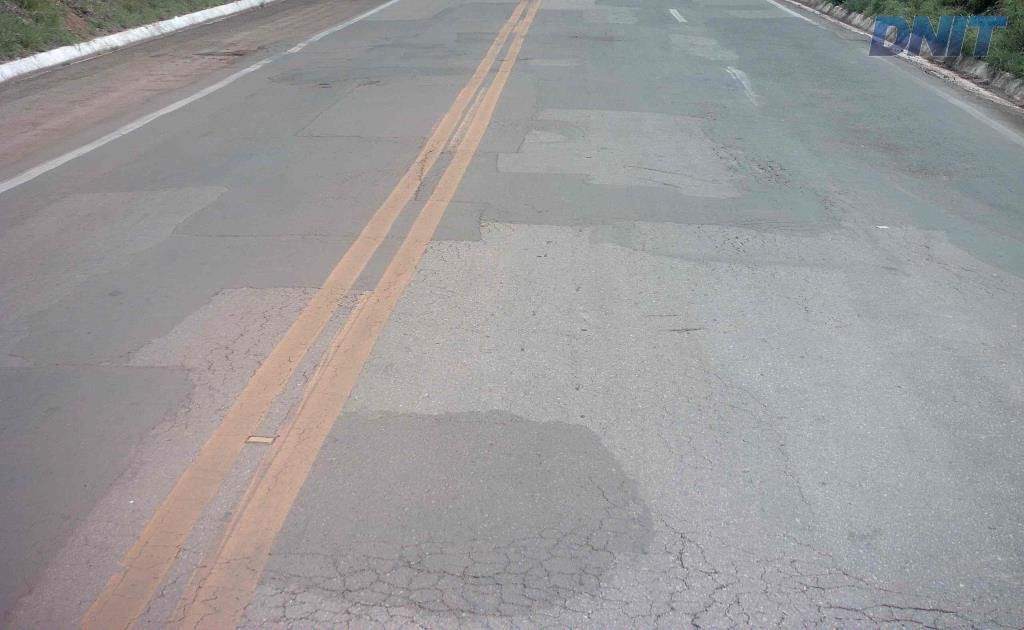crack: (387, 551, 554, 619), (823, 576, 997, 629), (542, 519, 617, 617), (262, 558, 367, 608), (756, 159, 793, 190)
